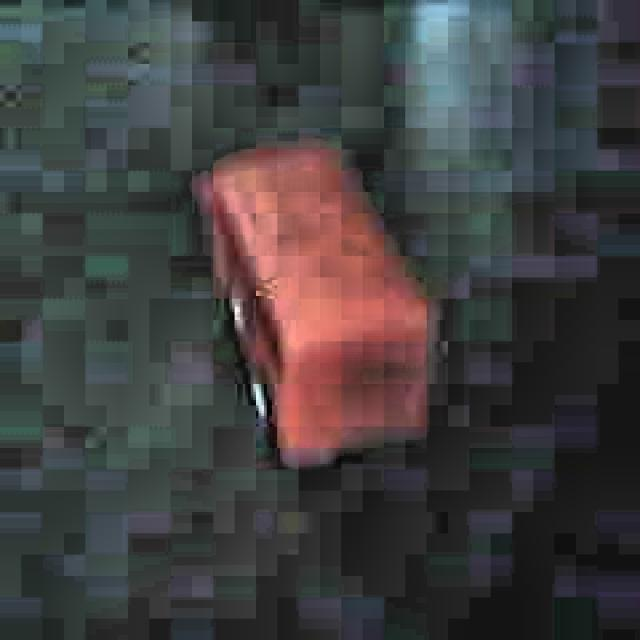bus: (196, 142, 434, 470)
